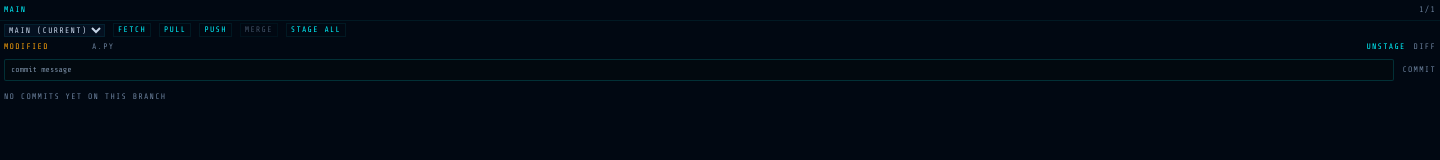
Test: GitPanel › keeps the typed message after a failed commit
Type "my message" into the field labelled "commit message" at (699, 70), box [4, 59, 1394, 81]
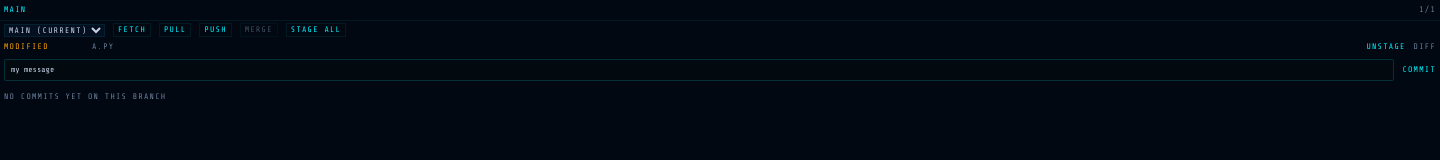
Click the button "Commit" at (1419, 70), box [1402, 64, 1436, 76]
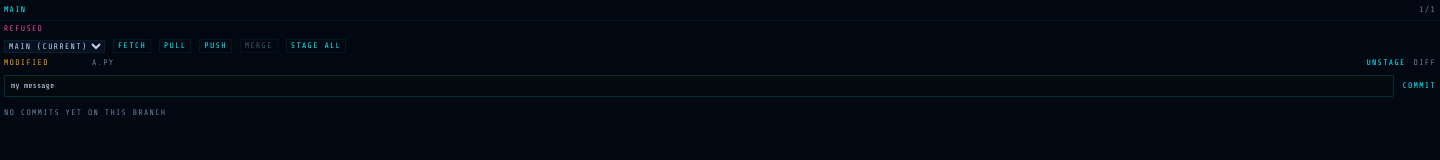
Check: the text "refused" is shown, box [4, 24, 43, 33]
